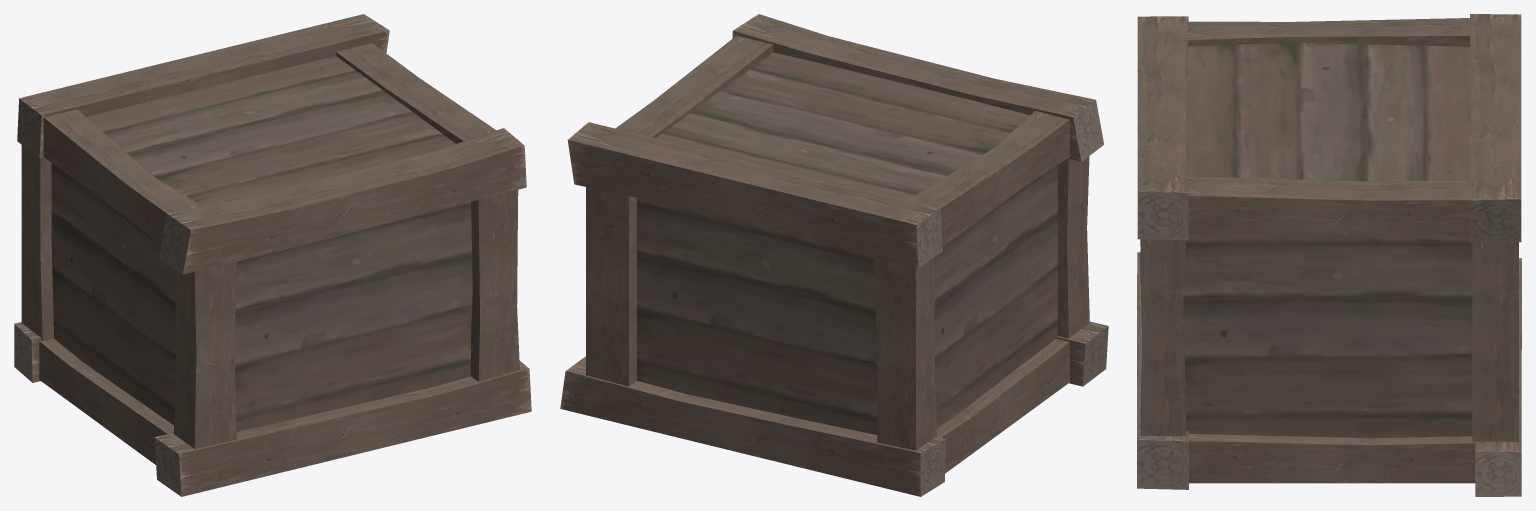
The model's file is Homeworld_Exterior_Dq_Thing_Box_01_Vo.fbx.
3 renders of one model, left to right at view 1: azimuth 30°, elevation 25°; view 2: azimuth 150°, elevation 25°; view 3: azimuth 270°, elevation 25°, orthographic. The views are drawn at different scales.
Visible parts, largest first — view 1: Area_Dq_Prop_Common_Box_01_Vo; view 2: Area_Dq_Prop_Common_Box_01_Vo; view 3: Area_Dq_Prop_Common_Box_01_Vo.
Boxes of the visible parts, x1,y1,x2,y2 form: Area_Dq_Prop_Common_Box_01_Vo: (14,14,531,496); Area_Dq_Prop_Common_Box_01_Vo: (560,14,1108,496); Area_Dq_Prop_Common_Box_01_Vo: (1137,14,1521,496).
Size of the model in its own units: 1.31 by 0.9087 by 1.08.
Materials: 1 (1 with a texture image).
